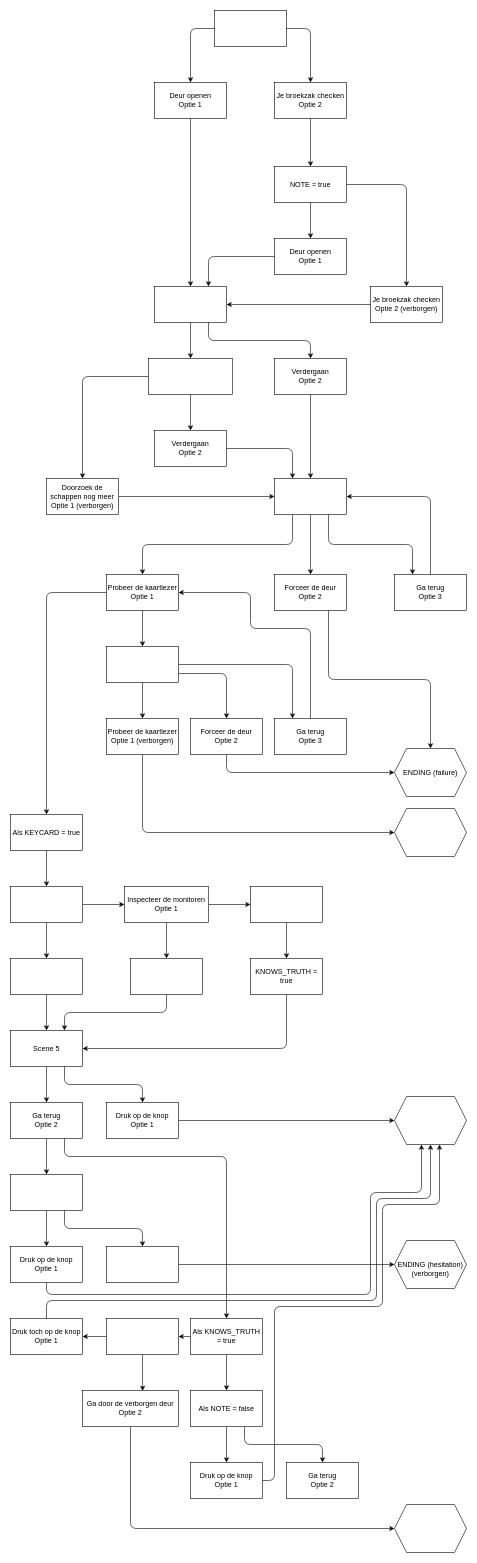
Some shapes in this 477 by 1563 pixel diagram are drawn without their labels. Each missing label, with the centre of its shape:
Als KEYCARD = false: [142,664]
Als KNOWS_TRUTH = false: [46,1192]
Als NOTE = true: [142,1336]
Blijf kijken Optie 2: [286,904]
Doorzoek de schappen Optie 1 KEYCARD = true: [190,376]
ENDING (loop): [430,1120]
ENDING (the human keycard) (verborgen): [430,832]
ENDING (truth): [430,1528]
Ga terug Optie 2 (verborgen): [142,1264]
Je start het spel Scene 1: [250,28]
Negeer de monitoren Optie 2: [46,976]
Scene 2: [190,304]
Scene 3: [310,496]
Scene 4: [46,904]
Stap weg Optie 1: [166,976]
